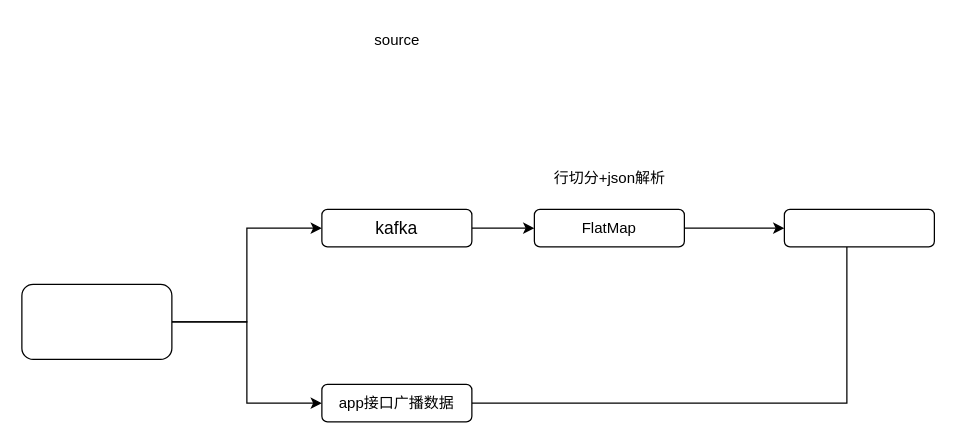
Some shapes in this 956 by 444 pixel diagram are drawn without their labels. The shapes that lost their labels are listed below. From the top down, each one's centre as x and y in pixels, then its label:
At point 858,227: "主动活跃逻辑".
At point 96,321: "flink env".
